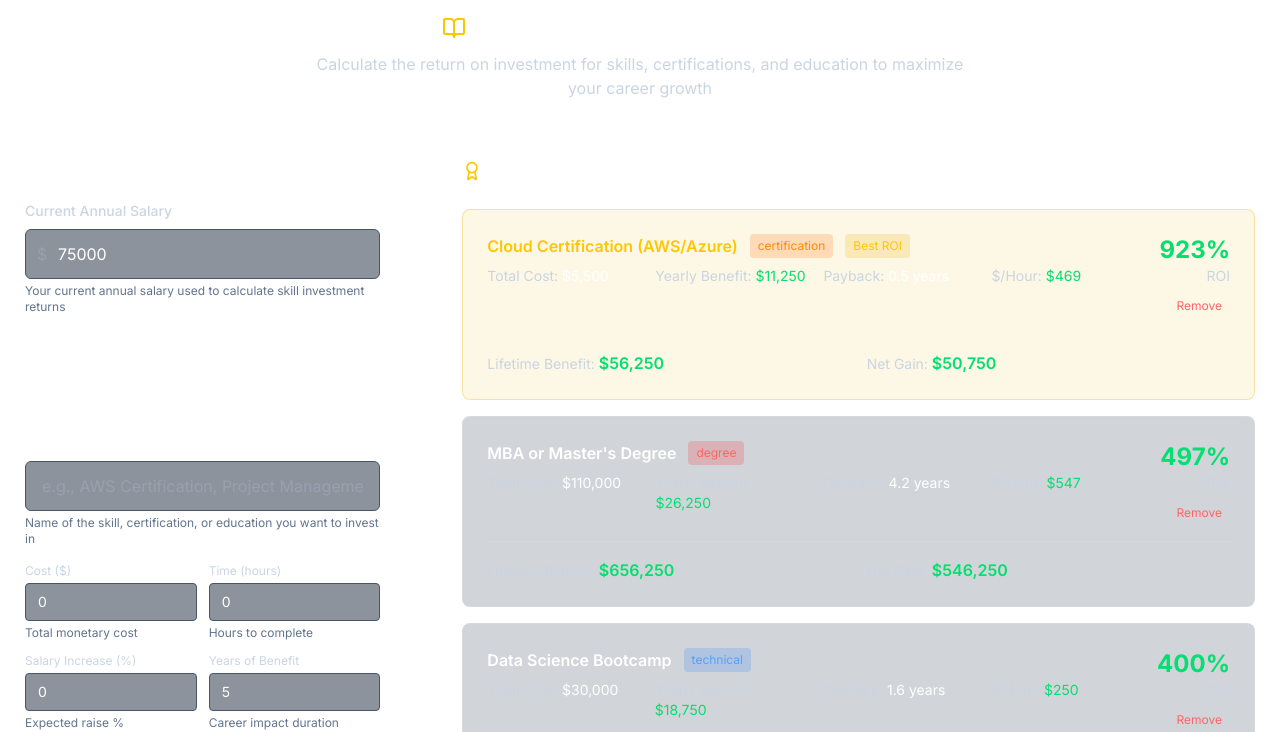
Test: SkillInvestmentROICalculator › clears validation errors when valid salary is provided
Note: First enter invalid input
Type "10000" into the number field labelled "Current Annual Salary". click: {"x": 203, "y": 254}
box: [25,229,380,279]
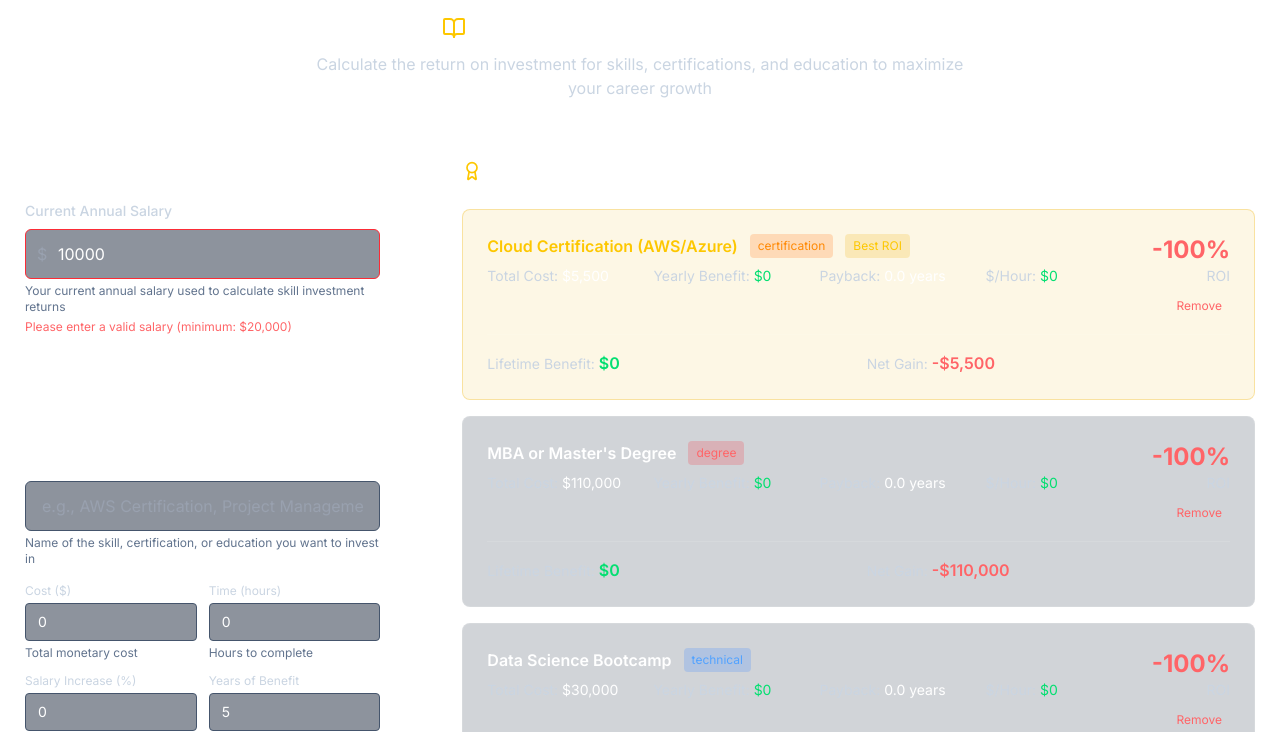
Result: the message "Please enter a valid salary (minimum: $20,000)" is shown at [25,319,292,334]
Note: Then enter valid input
Replace the text in the number field labelled "Current Annual Salary" with "75000". click: {"x": 203, "y": 254}
box: [25,229,380,279]
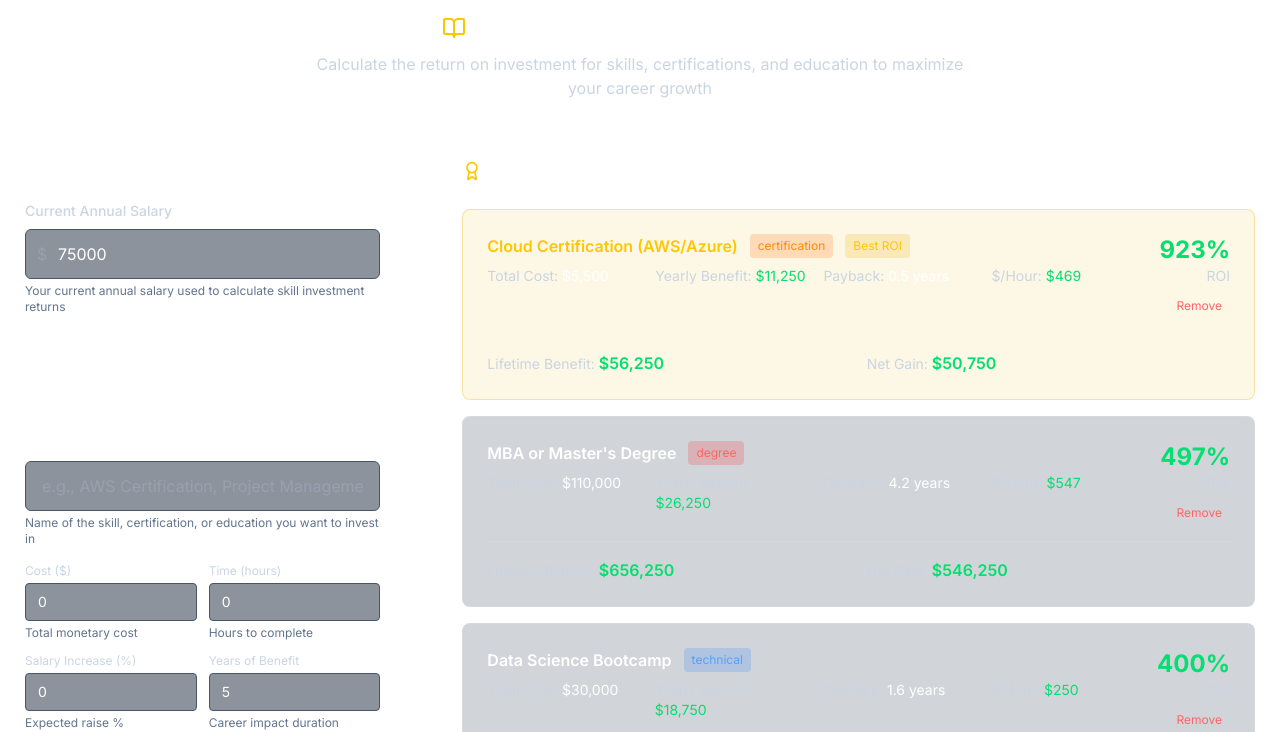
Result: the message "Please enter a valid salary (minimum: $20,000)" is gone
